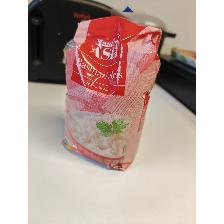Reis: (60, 15, 162, 173)
